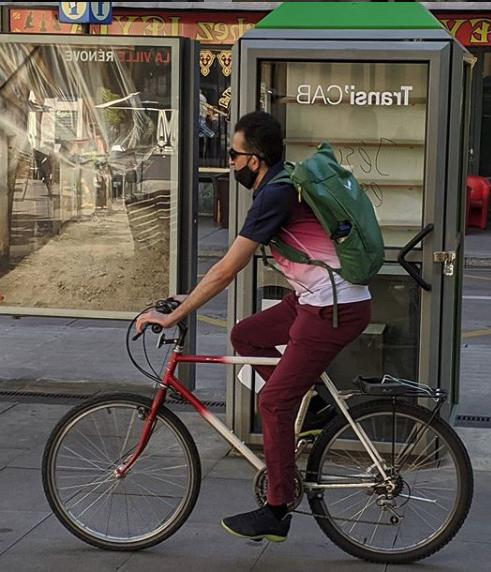mask_weared_incorrect: (219, 135, 260, 188)
